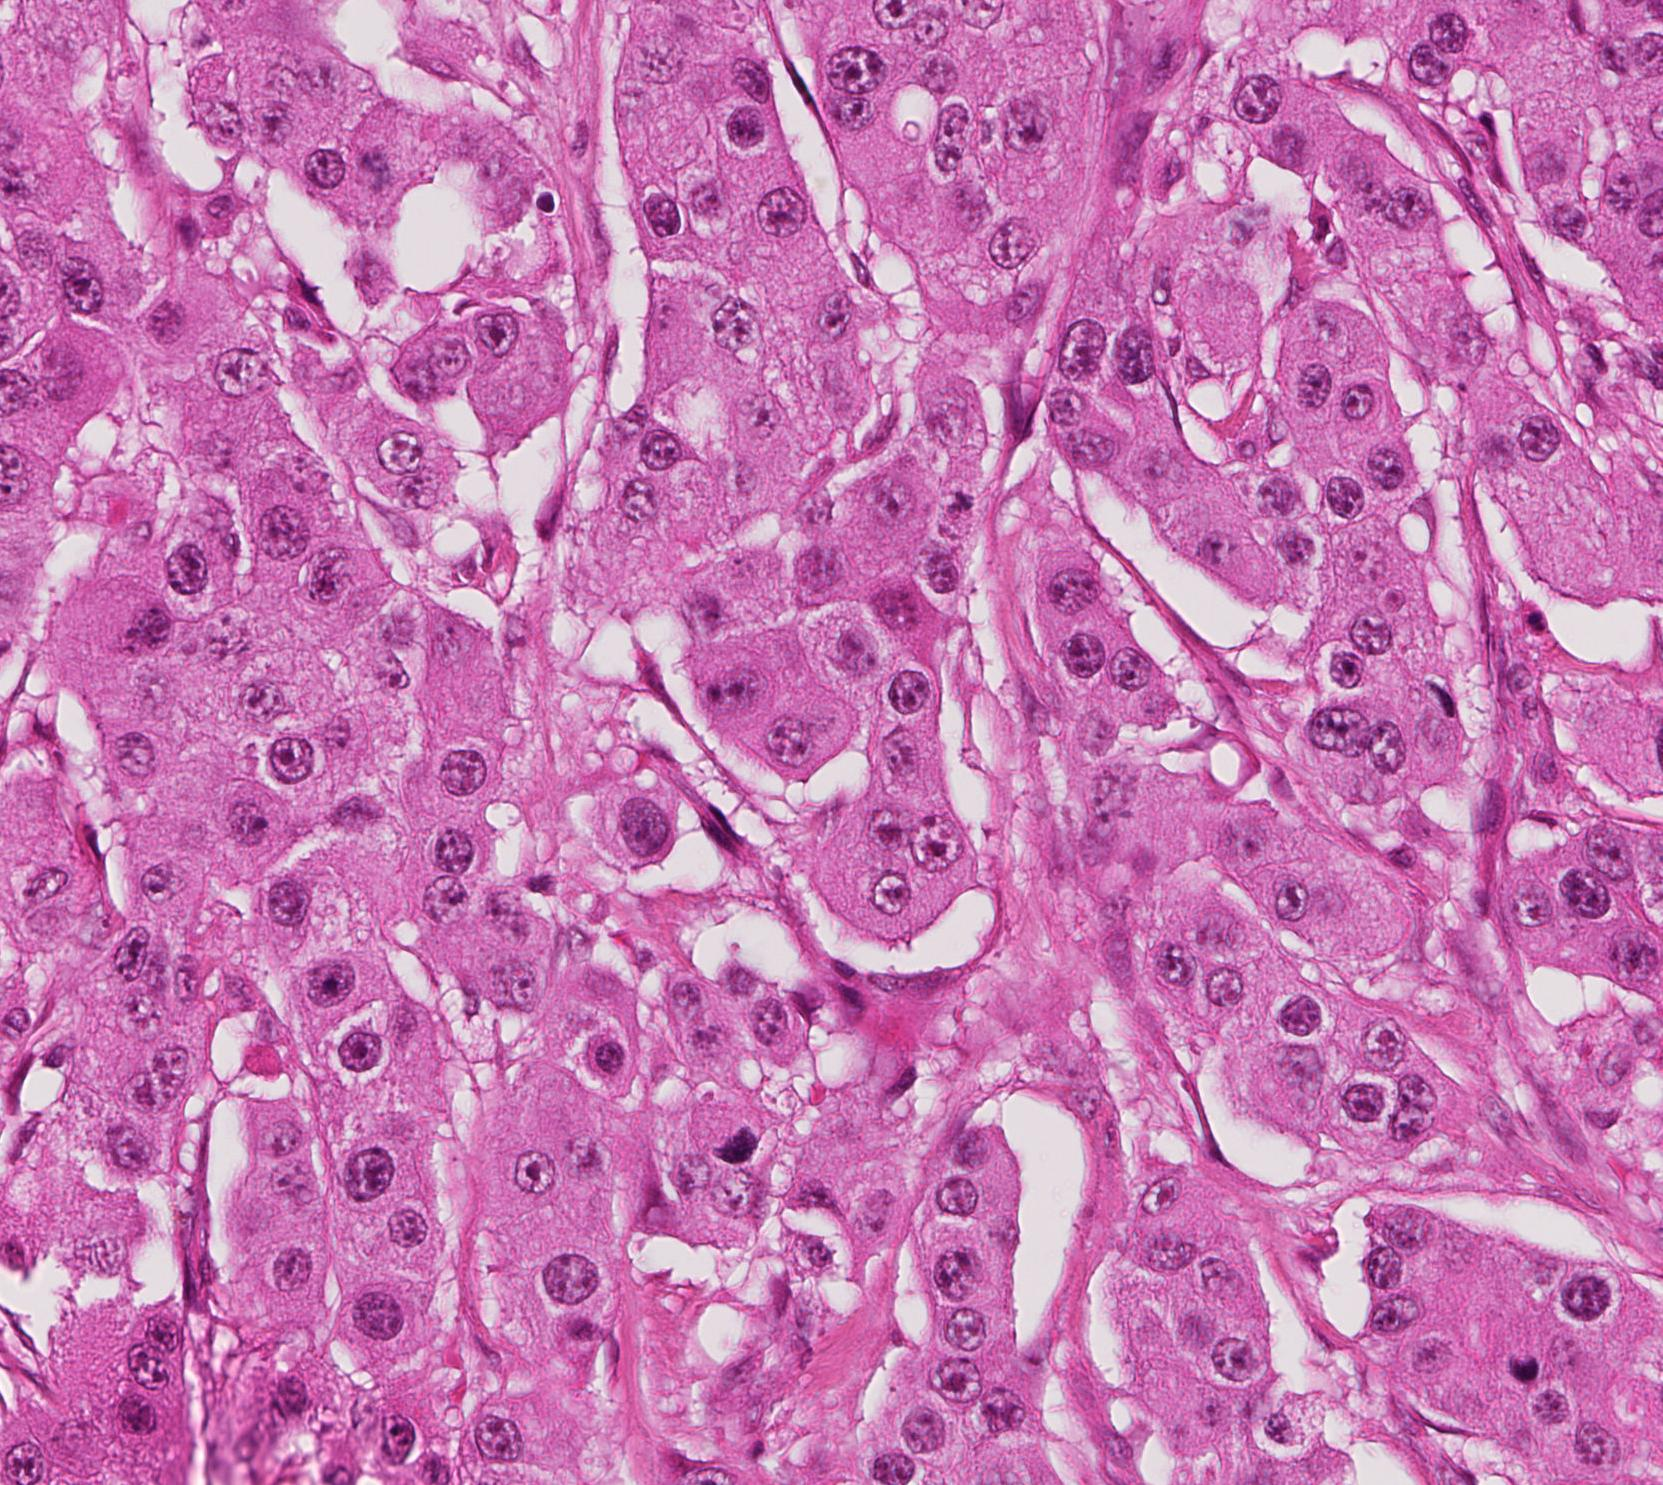mitosis: (701, 1122, 761, 1183)
